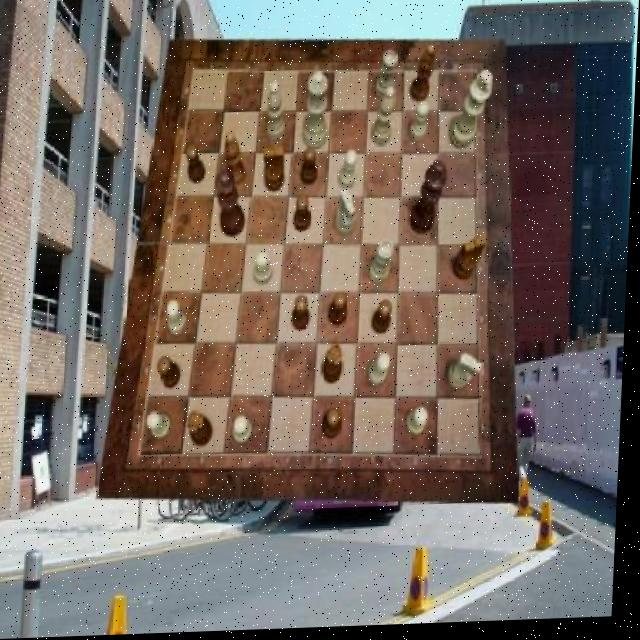bishop: (411, 47, 436, 106), (225, 134, 250, 189)
black-bishop: (411, 164, 450, 239)
black-king: (454, 240, 489, 284), (264, 148, 288, 194)
black-knight: (187, 146, 209, 185), (160, 356, 185, 390), (375, 304, 396, 338), (302, 149, 320, 188), (296, 298, 315, 333), (331, 294, 350, 329), (296, 197, 314, 233), (326, 411, 345, 443)
black-pawn: (216, 171, 251, 240)
black-queen: (190, 412, 217, 449), (325, 347, 347, 387)
black-rook: (373, 90, 397, 149), (267, 84, 288, 145)
white-bishop: (450, 73, 493, 153)
white-king: (451, 355, 487, 393), (337, 192, 360, 239)
white-knight: (410, 106, 430, 146), (372, 356, 396, 389), (341, 153, 360, 192), (170, 302, 191, 337), (151, 413, 176, 441), (409, 412, 433, 440), (257, 253, 276, 288), (237, 418, 258, 446)
white-pawn: (304, 74, 331, 152)
white-queen: (374, 55, 398, 104), (371, 243, 397, 287)
